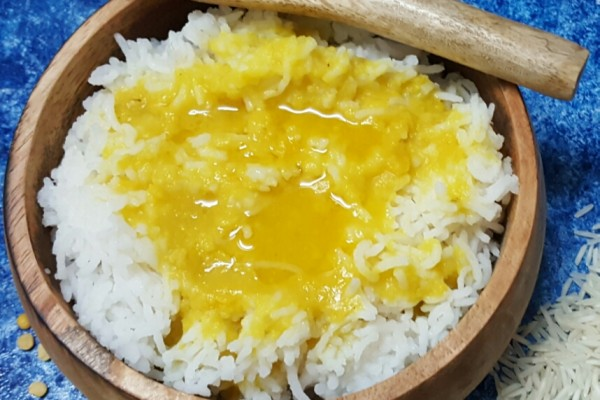rice: (60, 11, 512, 399)
